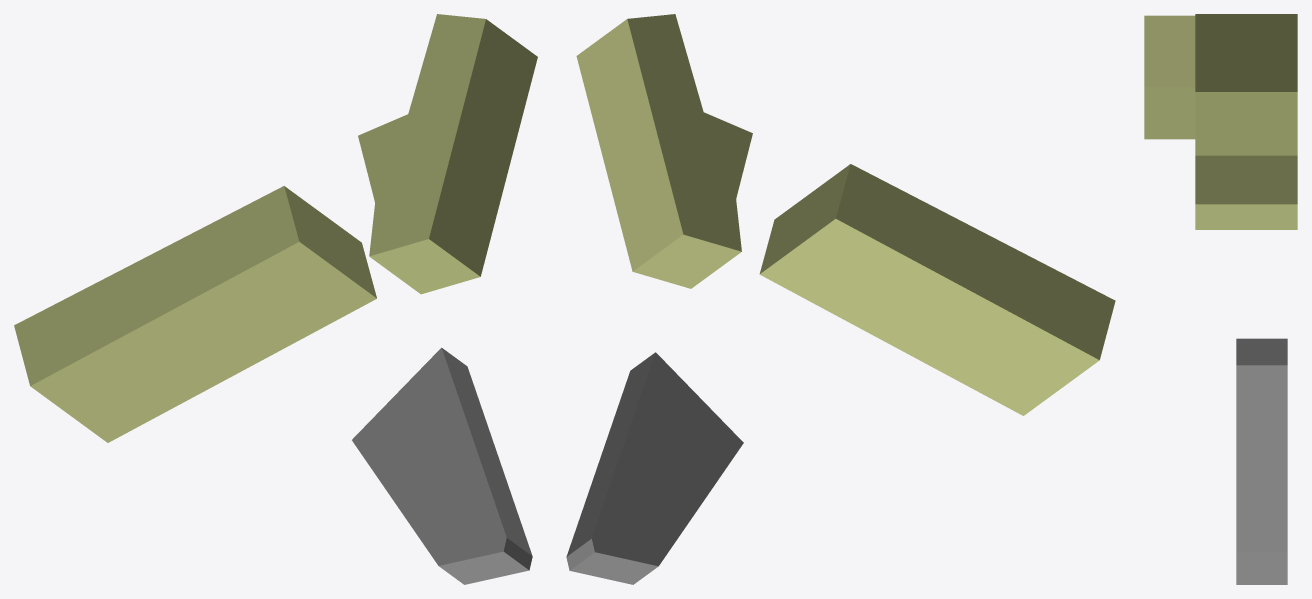
The picture shows the model from 3 angles, left to right: view 1: azimuth 30°, elevation 25°; view 2: azimuth 150°, elevation 25°; view 3: azimuth 270°, elevation 25°; orthographic projection.
Parts seen in each view (by area): view 1: 0_1_0_0_1_0_1_3_0; view 2: 0_1_0_0_1_0_1_3_0; view 3: 0_1_0_0_1_0_1_3_0.
Boxes of the visible parts, x1,y1,x2,y2 form: 0_1_0_0_1_0_1_3_0: (14, 14, 537, 584); 0_1_0_0_1_0_1_3_0: (566, 14, 1115, 584); 0_1_0_0_1_0_1_3_0: (1144, 14, 1297, 584).
Size of the model in its own units: 32.57 by 35.03 by 9.
